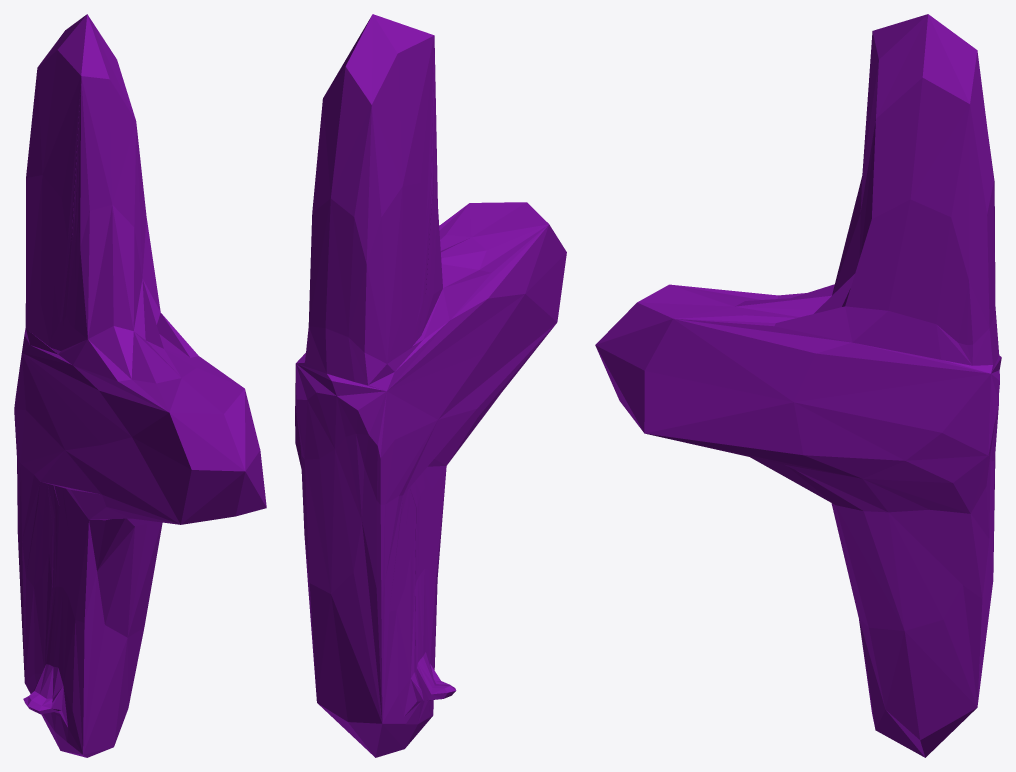
3 views of the same model, side by side, from view 1: azimuth 30°, elevation 25°; view 2: azimuth 150°, elevation 25°; view 3: azimuth 270°, elevation 25° (orthographic).
Visible parts, largest first — view 1: 568_Cube.2289; view 2: 568_Cube.2289; view 3: 568_Cube.2289.
Boxes of the visible parts, x1=… form: 568_Cube.2289: x1=14, y1=14, x2=266, y2=757; 568_Cube.2289: x1=295, y1=14, x2=566, y2=757; 568_Cube.2289: x1=595, y1=14, x2=1001, y2=757.
Size of the model in its own units: 2.15 by 12.29 by 6.08.
